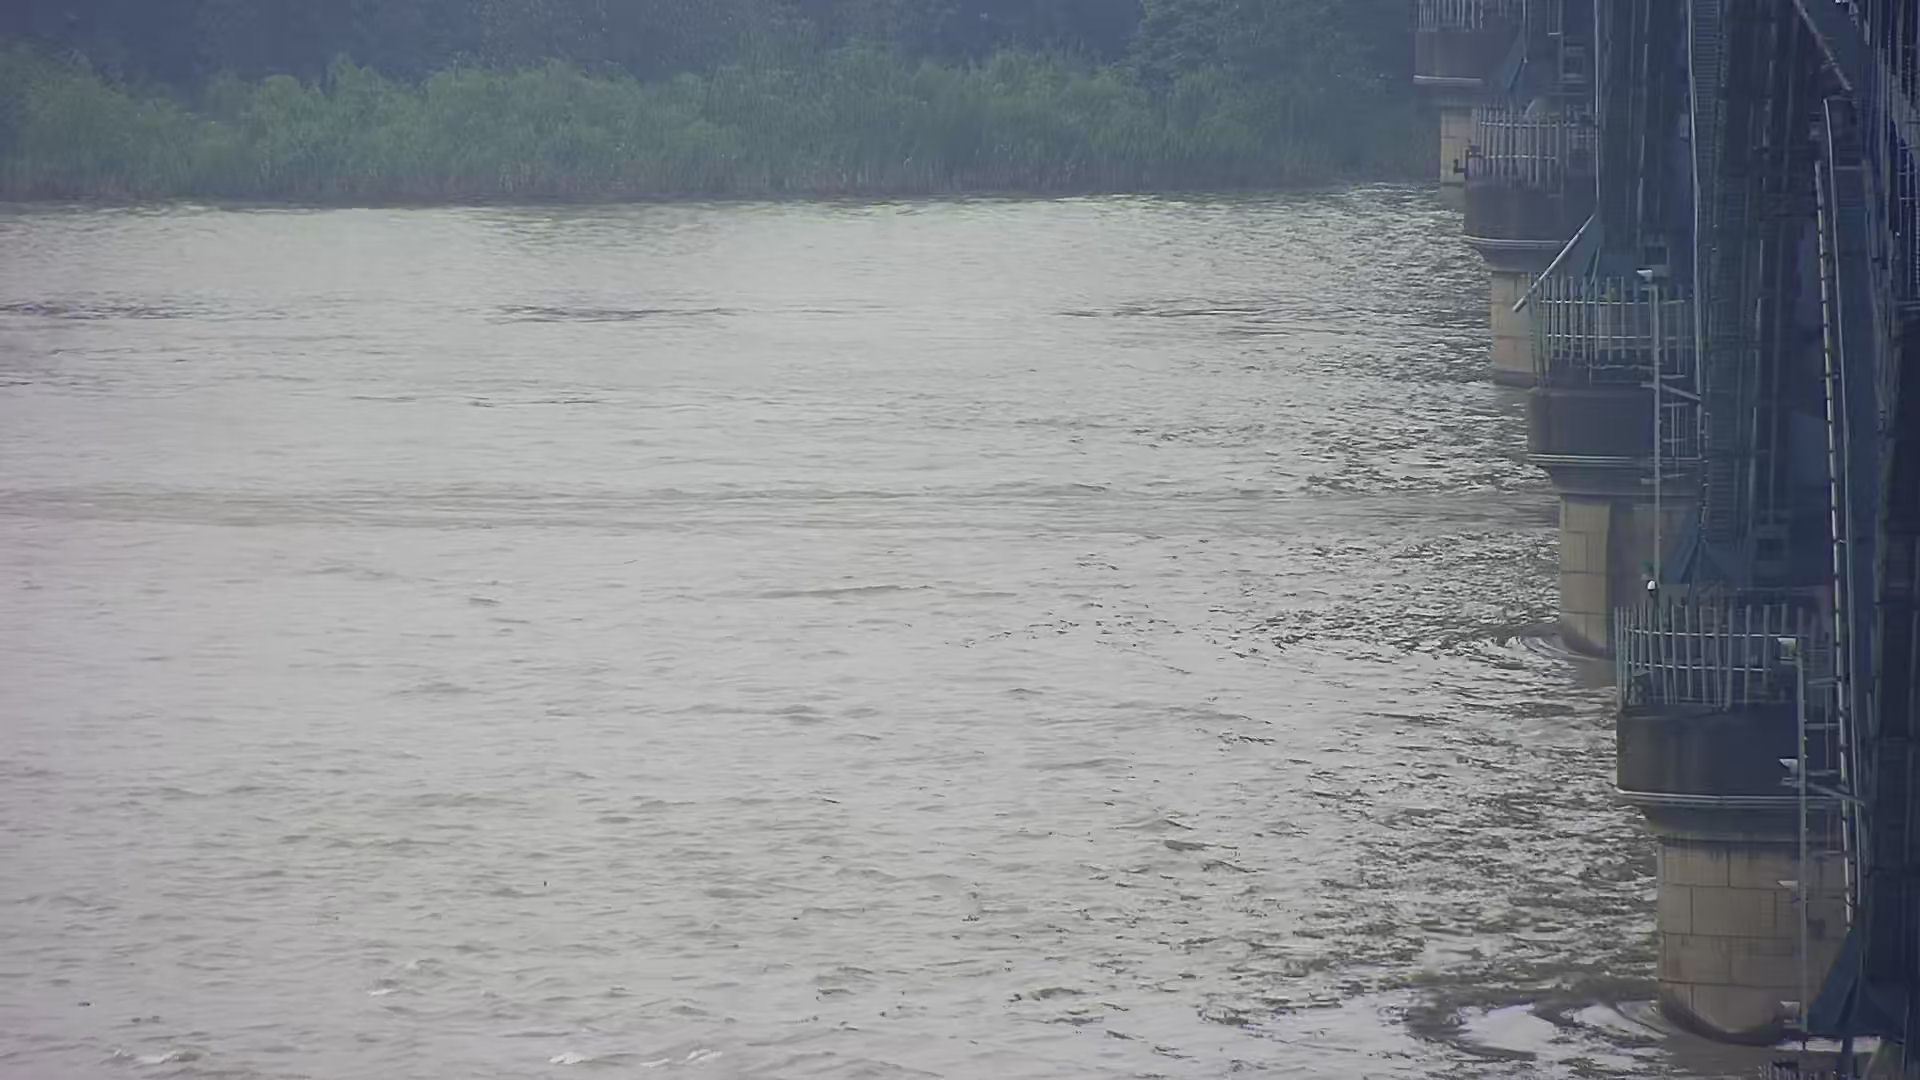bridge: (1391, 3, 1915, 1046)
